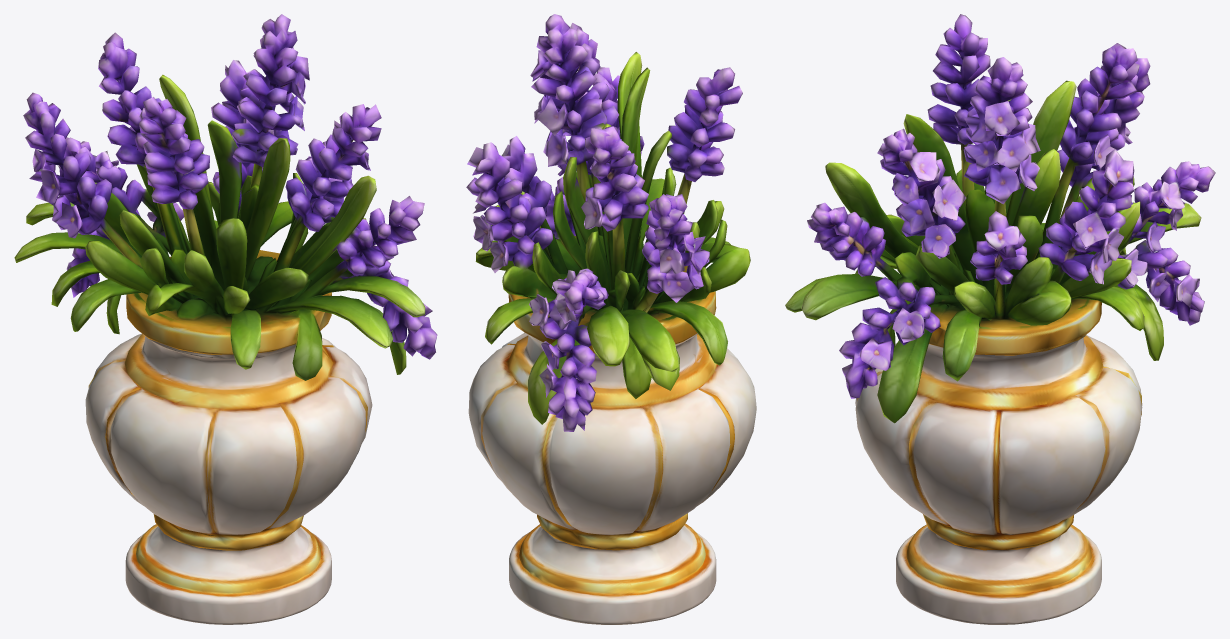
File: HaloFlowerPotHQ_Lavender_HD_src.glb
The picture shows the model from 3 angles, left to right: view 1: azimuth 30°, elevation 25°; view 2: azimuth 150°, elevation 25°; view 3: azimuth 270°, elevation 25°; orthographic projection.
Parts seen in each view (by area): view 1: tripo_node_bf336f99-f85d-461e-850a-7c8a96928c2f; view 2: tripo_node_bf336f99-f85d-461e-850a-7c8a96928c2f; view 3: tripo_node_bf336f99-f85d-461e-850a-7c8a96928c2f.
Boxes of the visible parts, x1,y1,x2,y2 form: tripo_node_bf336f99-f85d-461e-850a-7c8a96928c2f: (14, 14, 437, 624); tripo_node_bf336f99-f85d-461e-850a-7c8a96928c2f: (466, 14, 756, 624); tripo_node_bf336f99-f85d-461e-850a-7c8a96928c2f: (785, 14, 1215, 624).
Size of the model in its own units: 0.5149 by 0.981 by 0.6925.
1 material, 1 textured.
